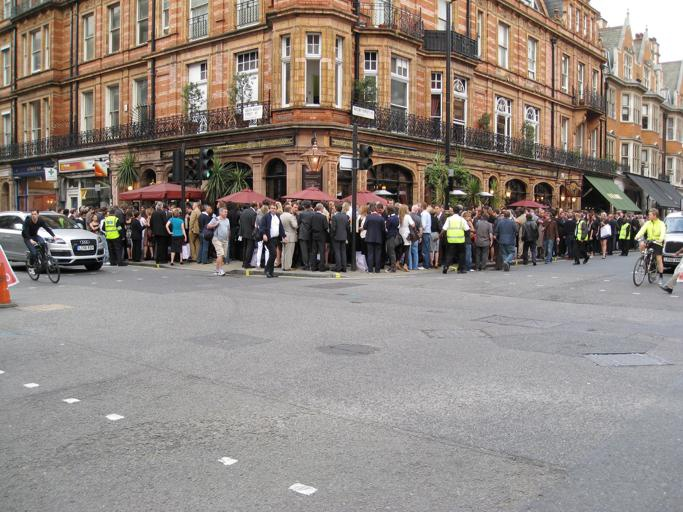non-vehicle: (21, 237, 62, 284), (630, 238, 658, 284)
